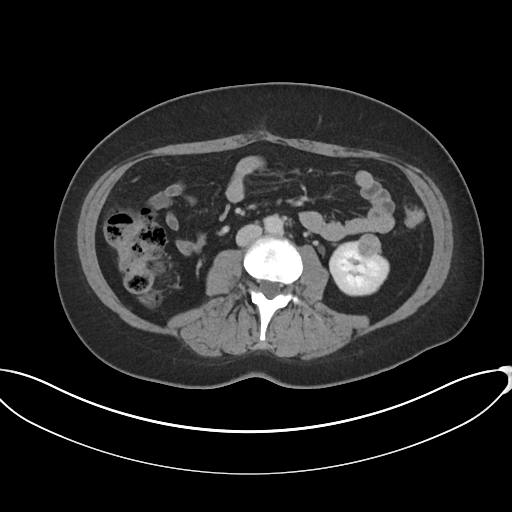Lesion: (358, 233, 383, 260)
